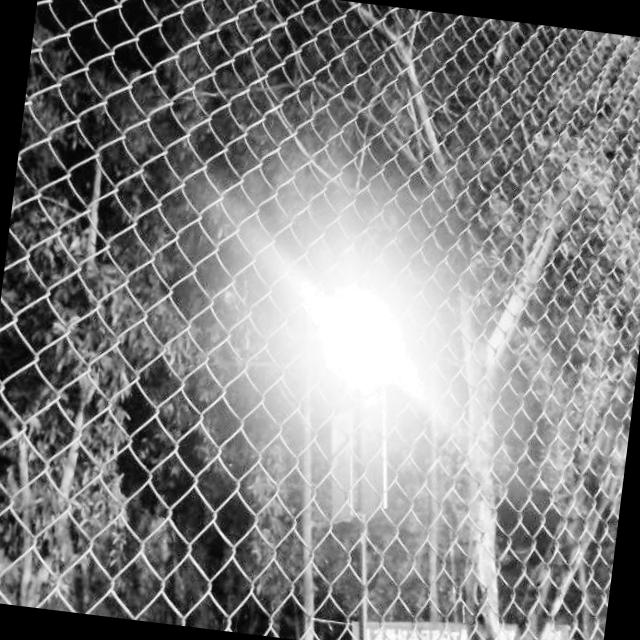Light: (279, 282, 420, 640)
